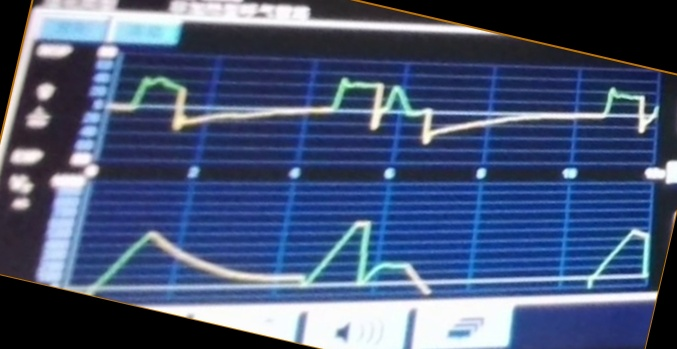Double_Triggering Flow: (119, 72, 655, 159)
Double_Triggering Volume: (95, 206, 647, 290)
